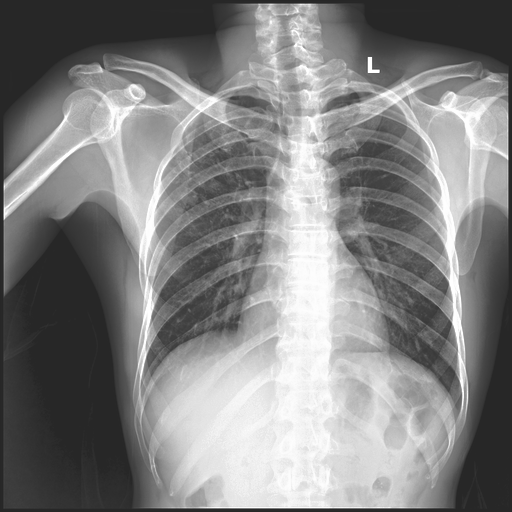Pneumothorax: (170, 126, 243, 221)
